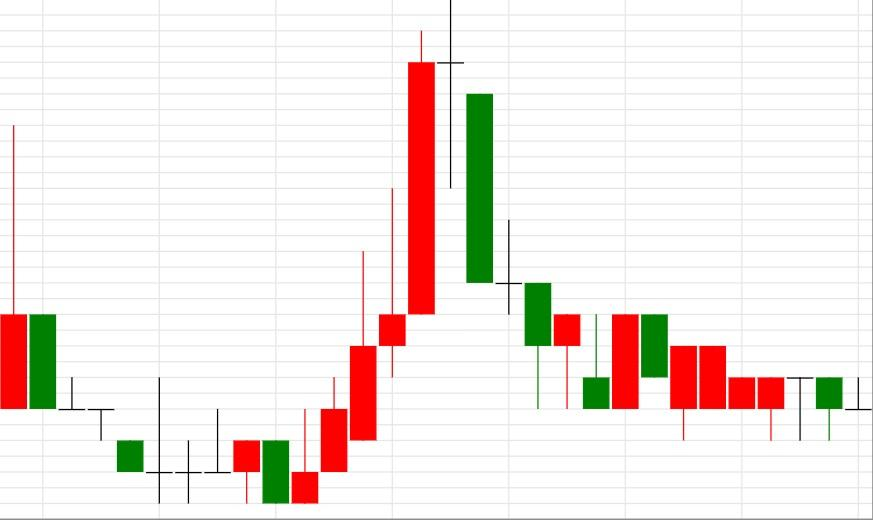bullish_engulfing_rise: (435, 0, 640, 410)
hammer_rise: (435, 0, 581, 410)
inverse_hammer_rise: (0, 122, 319, 504), (435, 0, 610, 409)
